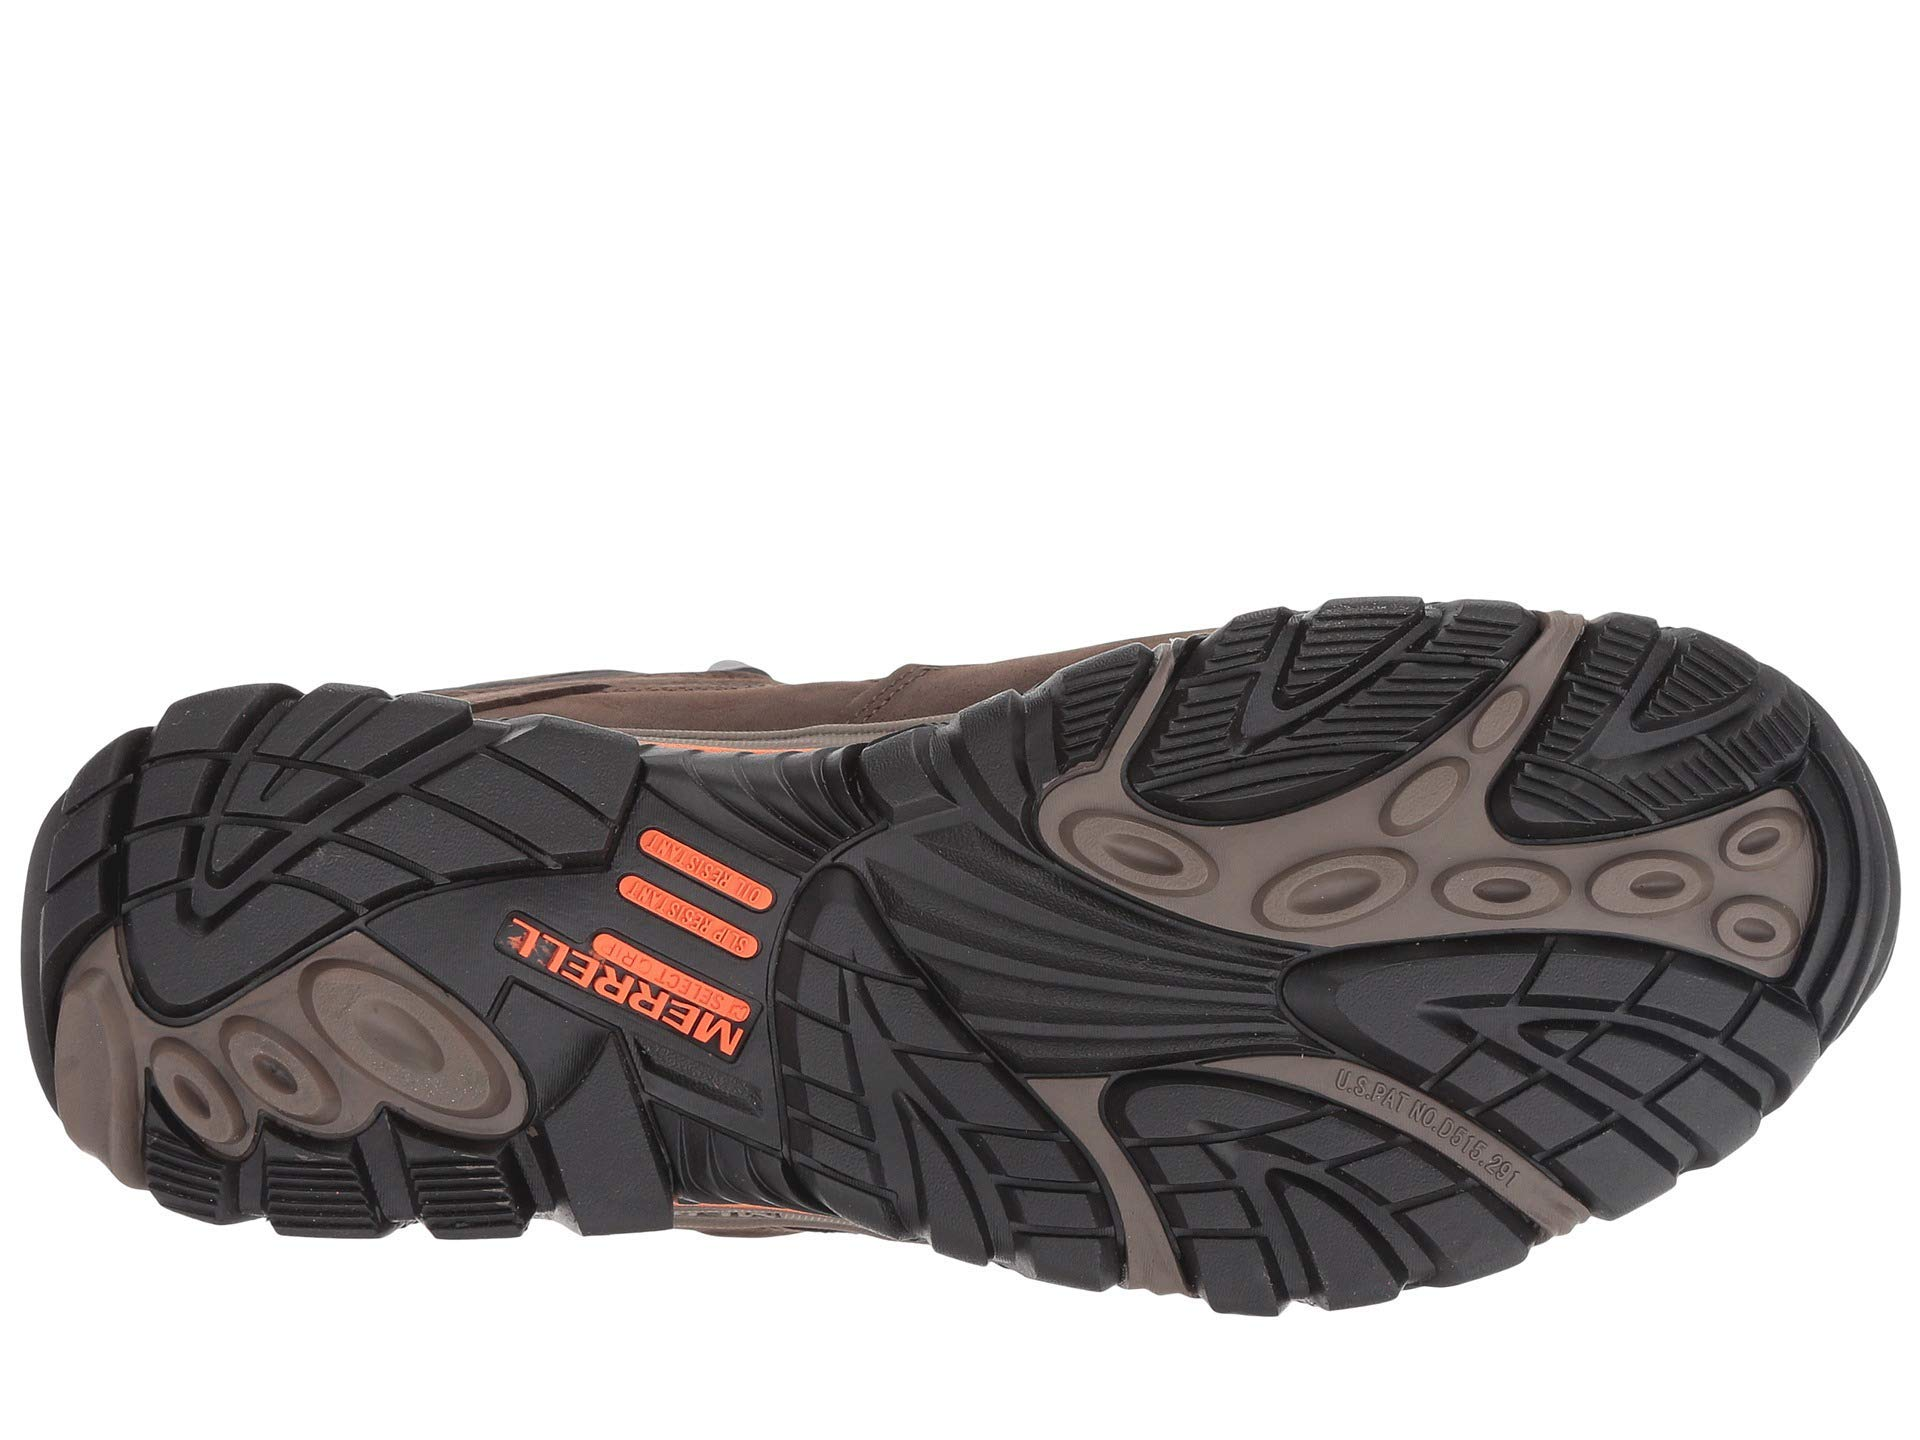chevron: (1222, 567, 1433, 776)
circle: (1448, 836, 1791, 941)
line: (804, 1016, 1144, 1283), (156, 1124, 513, 1252), (1222, 567, 1433, 776)
quad: (804, 1016, 1144, 1283), (169, 675, 444, 914), (1318, 1032, 1603, 1198), (156, 1124, 513, 1252), (1222, 567, 1433, 776)
text: (1318, 1032, 1603, 1198)
triangle: (804, 1016, 1144, 1283), (169, 675, 444, 914), (1318, 1032, 1603, 1198)
